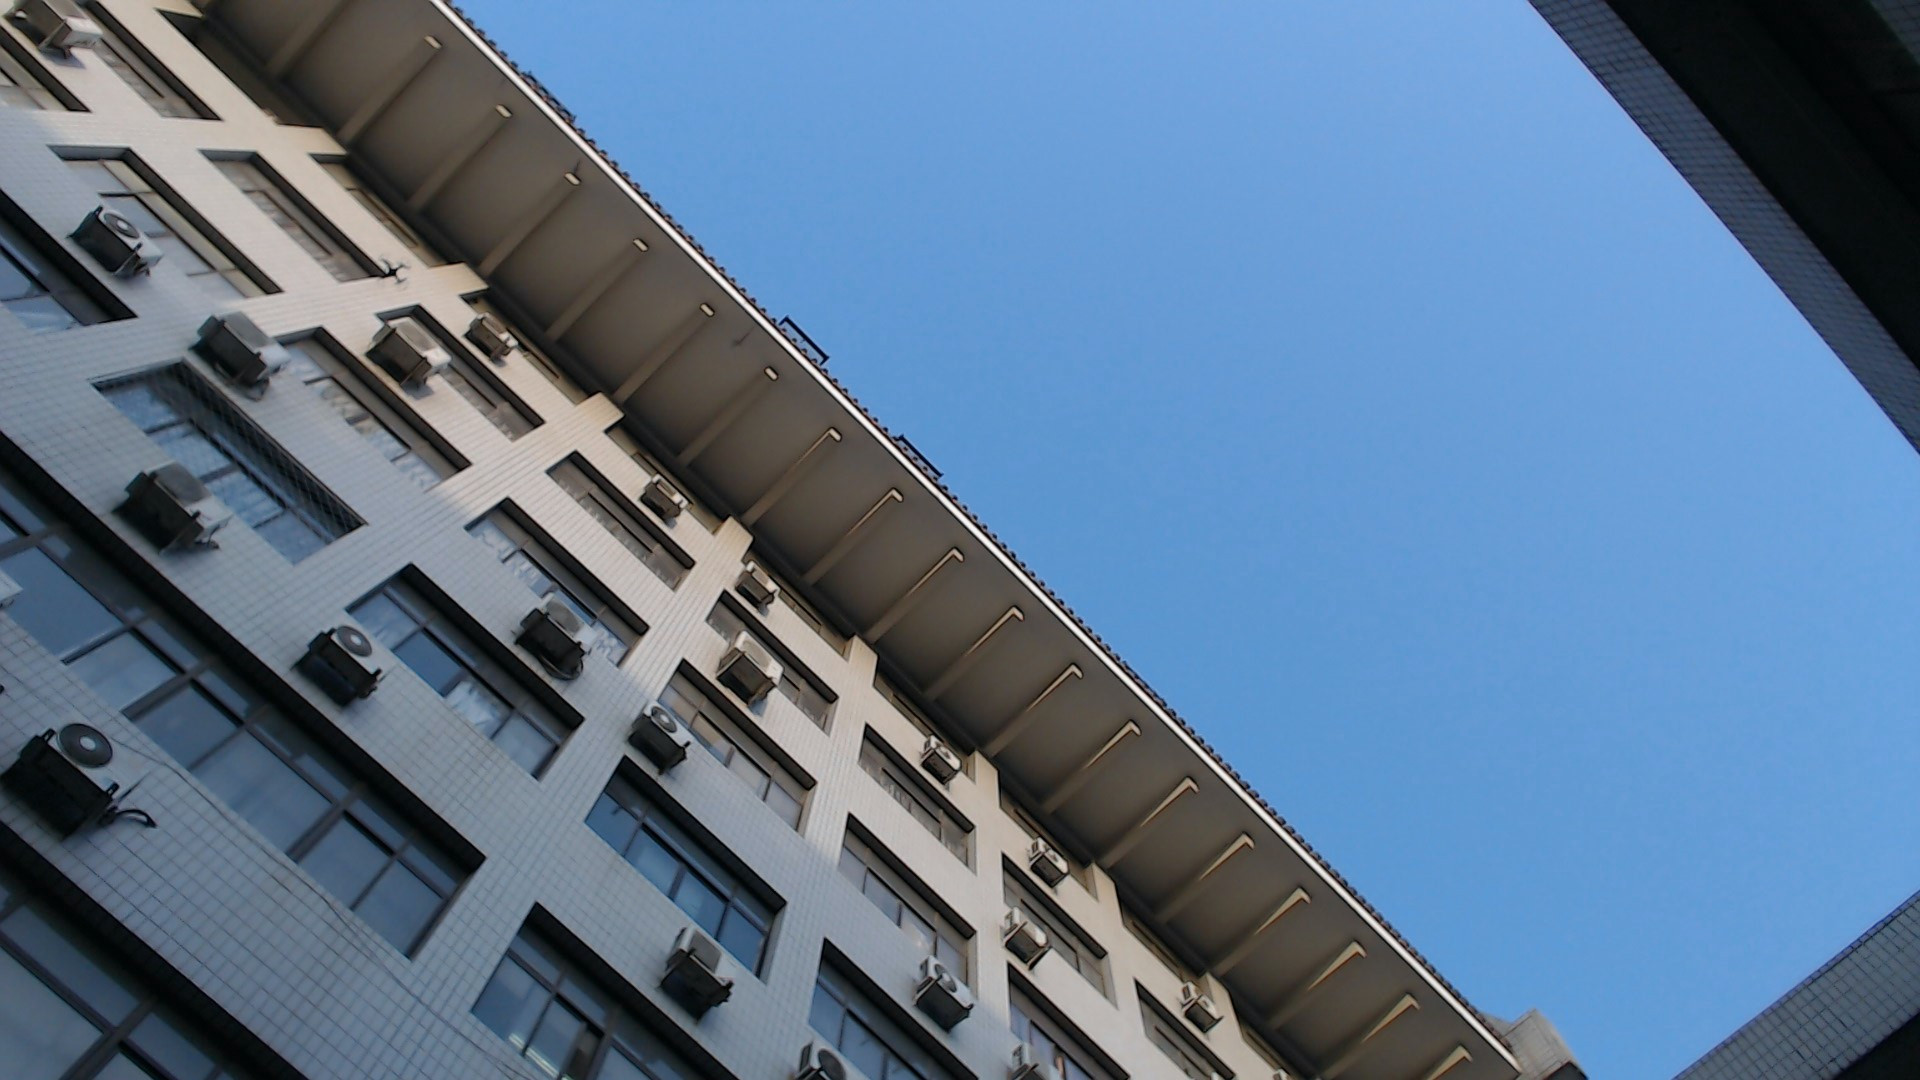drone: (363, 248, 429, 298)
